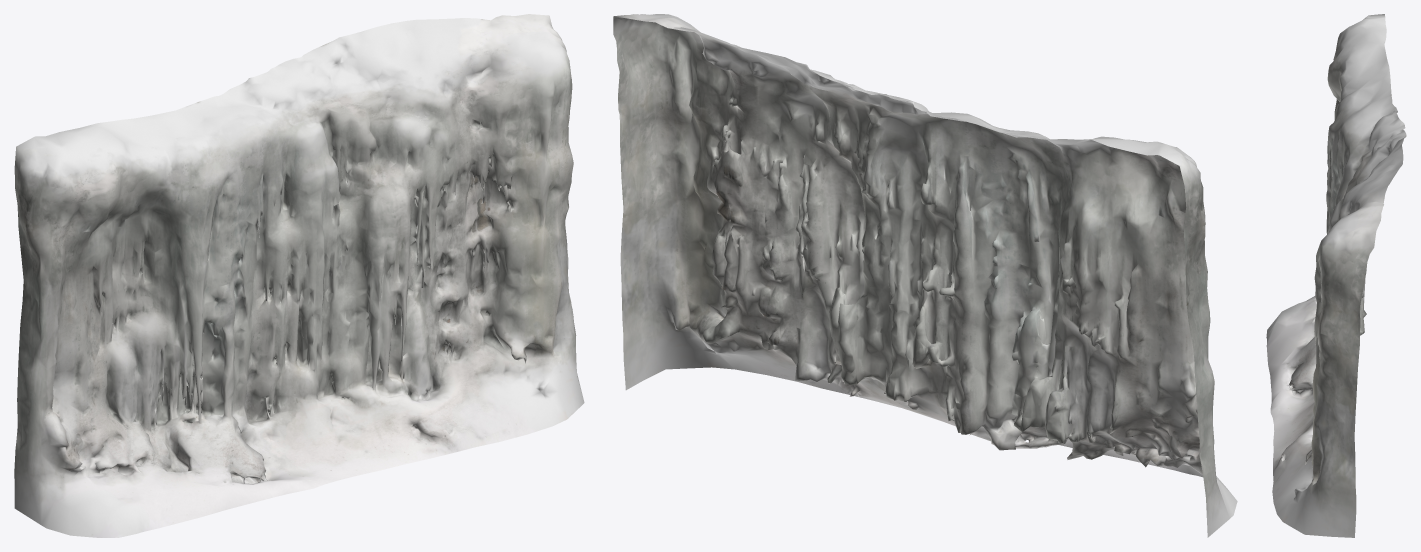
File: ice_cliff_uhpocesfa_mid.glb
3 renders of one model, left to right at view 1: azimuth 30°, elevation 25°; view 2: azimuth 150°, elevation 25°; view 3: azimuth 270°, elevation 25°, orthographic. The views are drawn at different scales.
Parts seen in each view (by area): view 1: uhpocesfa_LOD0_TIER2_000; view 2: uhpocesfa_LOD0_TIER2_000; view 3: uhpocesfa_LOD0_TIER2_000.
Part boxes in pixels (x1,y1,x2,y2): uhpocesfa_LOD0_TIER2_000: (14, 14, 584, 537); uhpocesfa_LOD0_TIER2_000: (613, 14, 1237, 537); uhpocesfa_LOD0_TIER2_000: (1266, 14, 1406, 537).
Bounding box in the file's own units: 6.88 × 4.46 × 1.77.
1 material, 1 textured.
